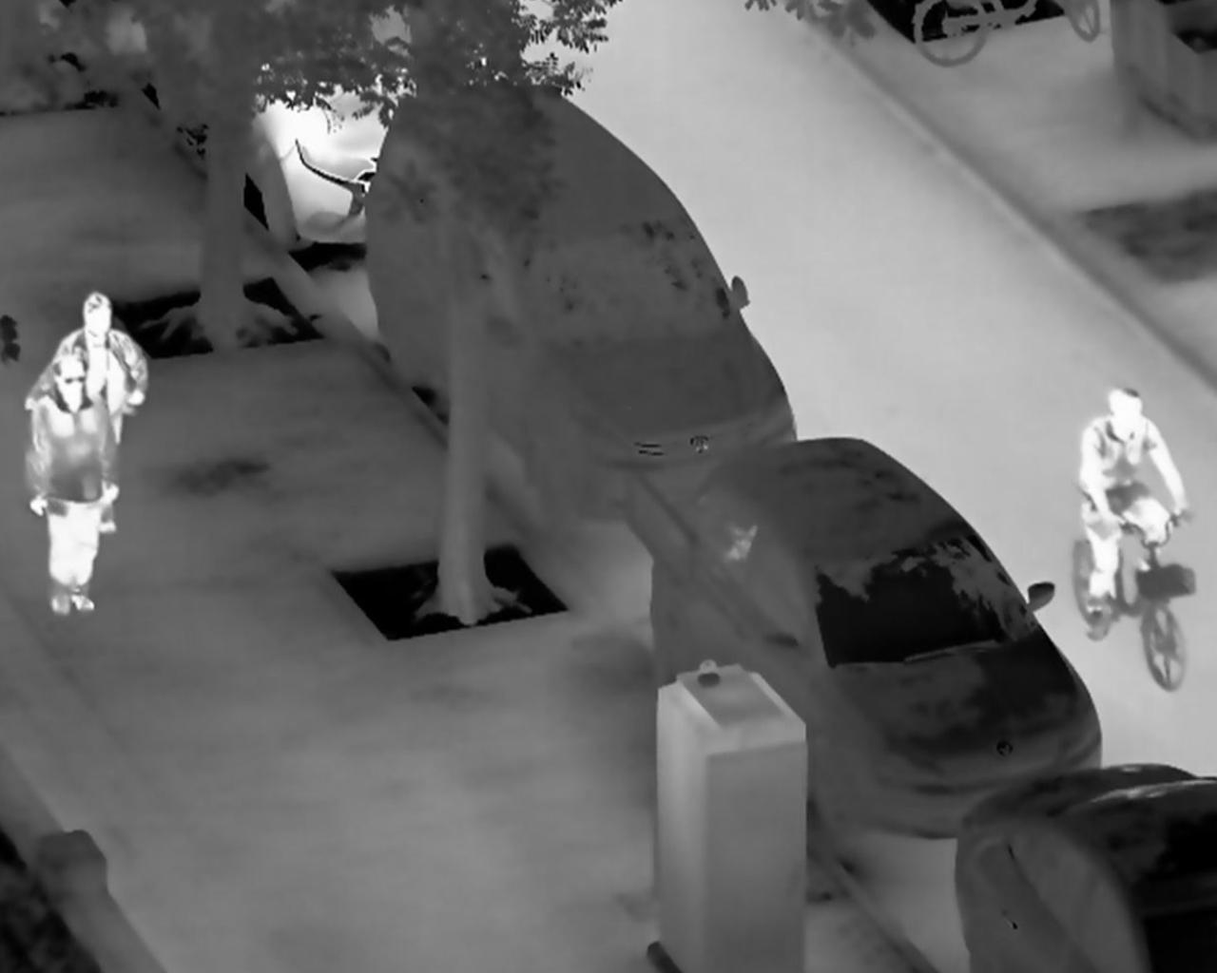person: (1075, 386, 1189, 644), (26, 355, 122, 615), (49, 294, 146, 438)
